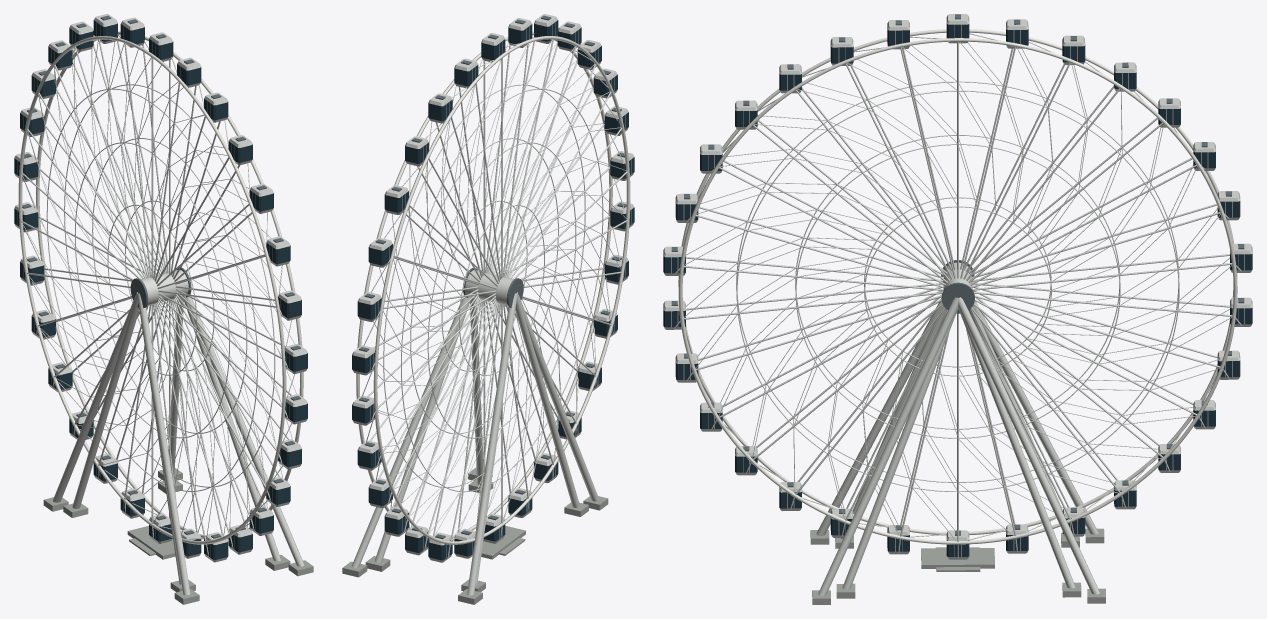
The model's file is the-wheel-icon-park-near.glb.
3 views of the same model, side by side, from view 1: azimuth 30°, elevation 25°; view 2: azimuth 150°, elevation 25°; view 3: azimuth 270°, elevation 25° (orthographic). The views are drawn at different scales.
Visible parts, largest first — view 1: the-wheel-icon-park-0-structure, the-wheel-icon-park-0-glass, the-wheel-icon-park-0-glow, the-wheel-icon-park-0-concrete, the-wheel-icon-park-0-light, the-wheel-icon-park-0-hardware; view 2: the-wheel-icon-park-0-structure, the-wheel-icon-park-0-glass, the-wheel-icon-park-0-glow, the-wheel-icon-park-0-light, the-wheel-icon-park-0-concrete, the-wheel-icon-park-0-hardware; view 3: the-wheel-icon-park-0-structure, the-wheel-icon-park-0-glass, the-wheel-icon-park-0-light, the-wheel-icon-park-0-glow, the-wheel-icon-park-0-concrete, the-wheel-icon-park-0-hardware.
Part boxes in pixels (<box>): the-wheel-icon-park-0-structure: <box>14,14,307,595</box>; the-wheel-icon-park-0-glass: <box>14,20,307,559</box>; the-wheel-icon-park-0-glow: <box>18,36,286,544</box>; the-wheel-icon-park-0-concrete: <box>43,468,313,604</box>; the-wheel-icon-park-0-light: <box>36,31,303,539</box>; the-wheel-icon-park-0-hardware: <box>22,15,300,538</box>; the-wheel-icon-park-0-structure: <box>351,14,634,595</box>; the-wheel-icon-park-0-glass: <box>352,20,634,560</box>; the-wheel-icon-park-0-glow: <box>373,36,630,544</box>; the-wheel-icon-park-0-light: <box>356,31,612,539</box>; the-wheel-icon-park-0-concrete: <box>342,467,608,604</box>; the-wheel-icon-park-0-hardware: <box>359,15,626,539</box>; the-wheel-icon-park-0-structure: <box>663,14,1252,595</box>; the-wheel-icon-park-0-glass: <box>663,24,1252,556</box>; the-wheel-icon-park-0-light: <box>678,38,1237,544</box>; the-wheel-icon-park-0-glow: <box>678,29,1237,535</box>; the-wheel-icon-park-0-concrete: <box>810,528,1105,604</box>; the-wheel-icon-park-0-hardware: <box>671,14,1244,535</box>.
Bounding box in the file's own units: 33.81 × 122 × 120.
